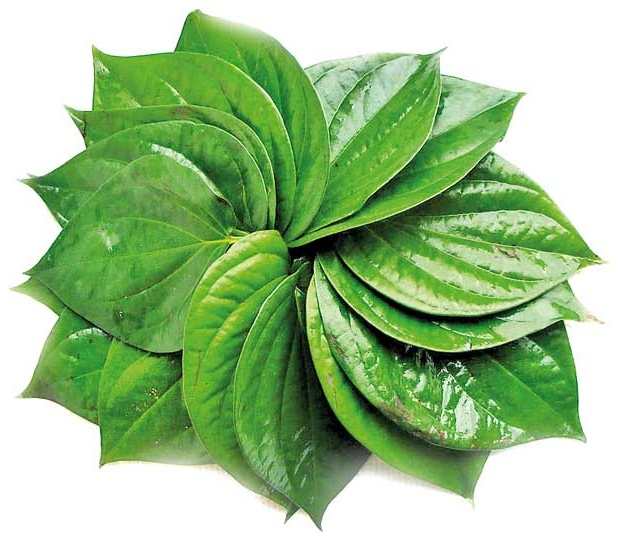bulathwita: (10, 10, 583, 528)
